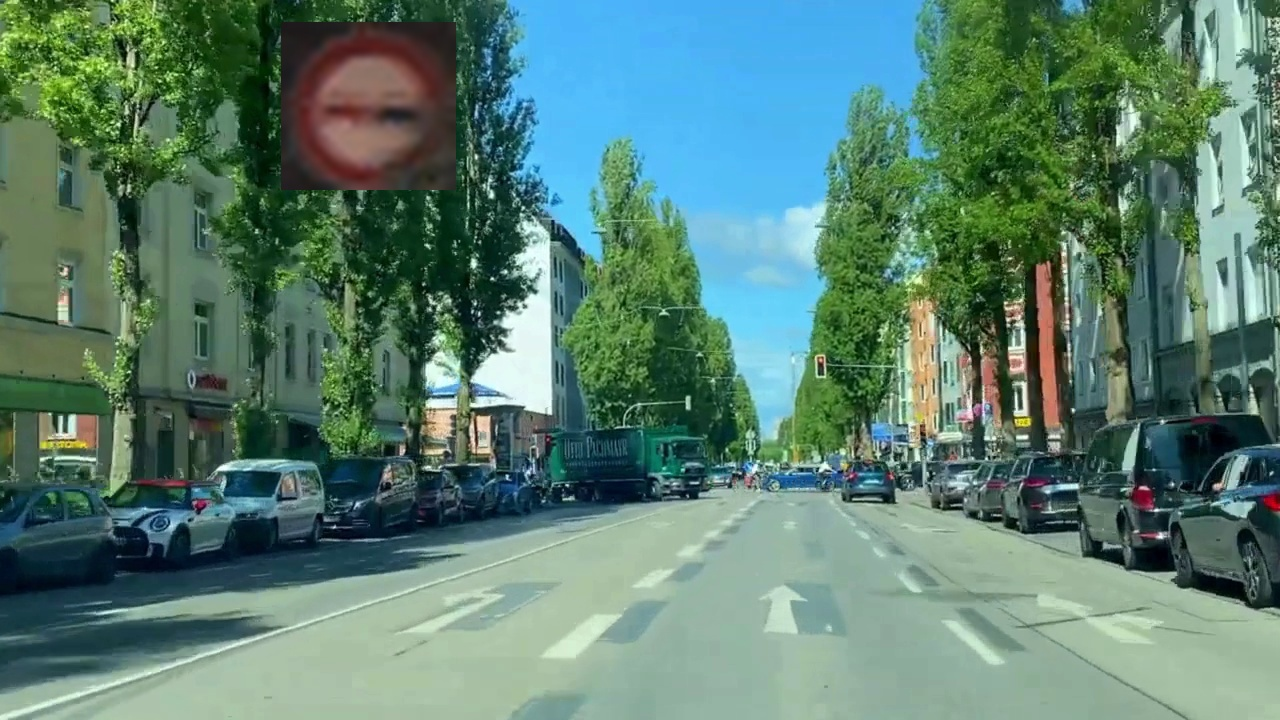No passing: (281, 22, 456, 190)
